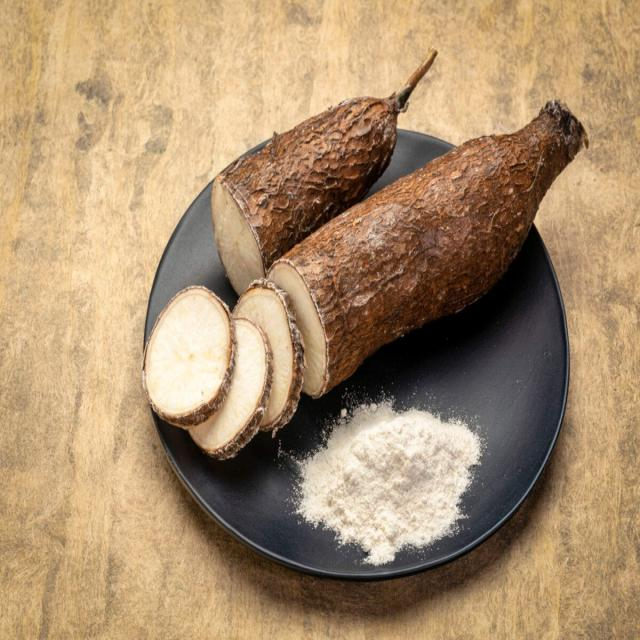yuca: (200, 78, 410, 288), (140, 279, 233, 426)
